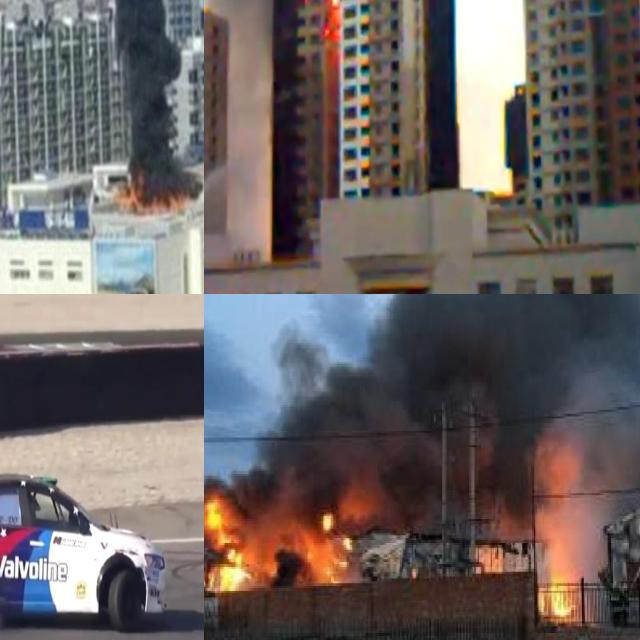fire: (204, 492, 258, 591), (290, 512, 352, 589), (118, 169, 194, 217), (541, 565, 577, 620), (477, 543, 502, 571), (327, 0, 340, 6)
smoke: (204, 294, 640, 548), (103, 0, 202, 196)
